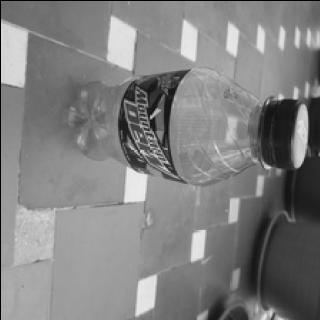plastic_bottles: (62, 62, 308, 188)
